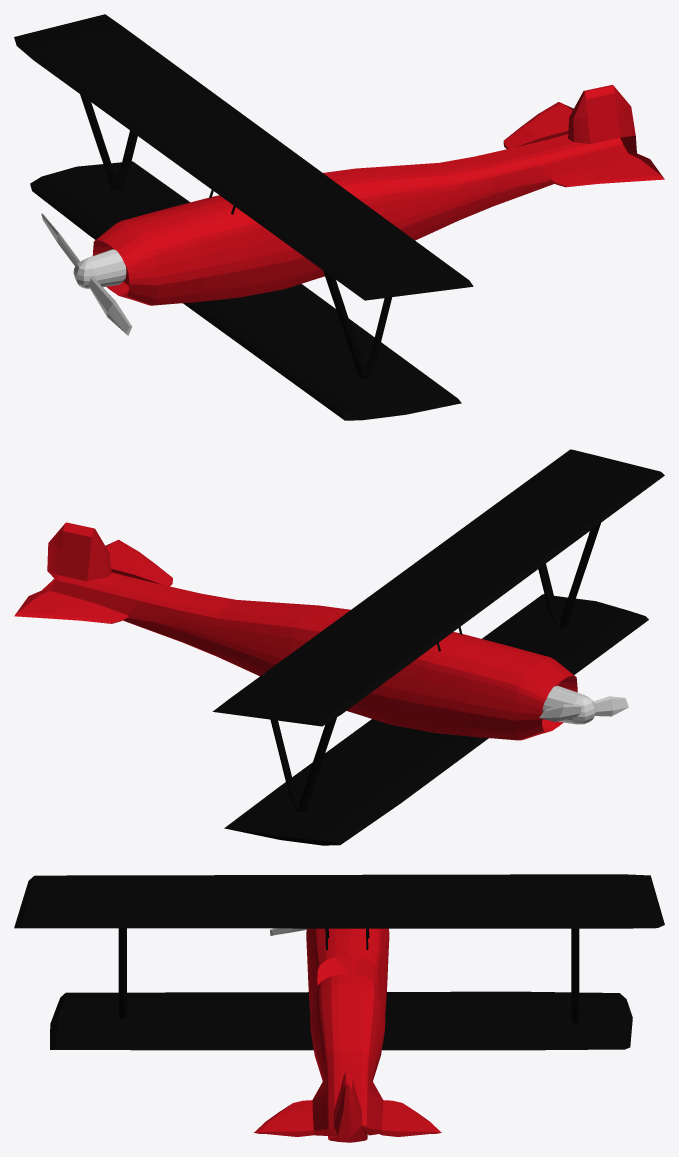
The picture shows the model from 3 angles, top to bottom: view 1: azimuth 30°, elevation 25°; view 2: azimuth 150°, elevation 25°; view 3: azimuth 270°, elevation 25°; orthographic projection. The views are drawn at different scales.
Visible parts, largest first — view 1: polySurface3, polySurface1; view 2: polySurface3, polySurface1; view 3: polySurface3.
Boxes of the visible parts, <box> form: polySurface3: <box>14,14,664,420</box>; polySurface1: <box>41,213,132,335</box>; polySurface3: <box>14,449,664,845</box>; polySurface1: <box>539,685,628,724</box>; polySurface3: <box>14,874,664,1142</box>.
Bounding box in the file's own units: 310 × 77.56 × 356.
